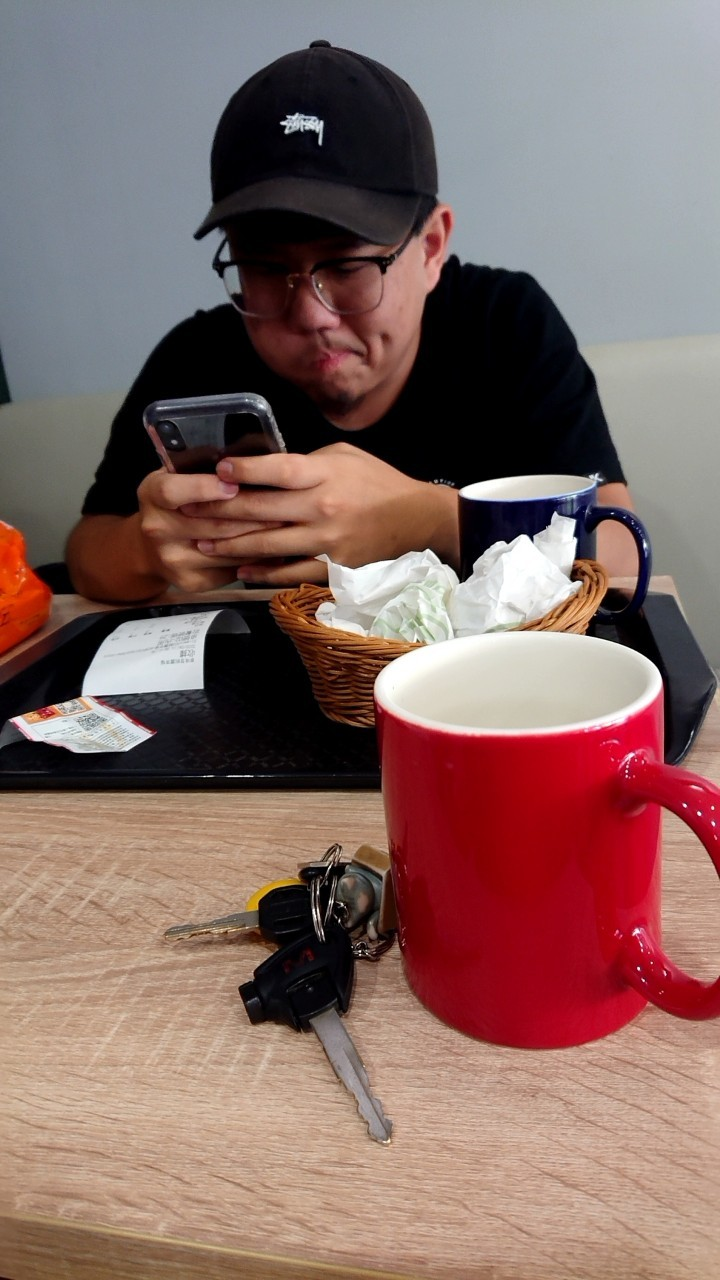people: (118, 47, 646, 678)
